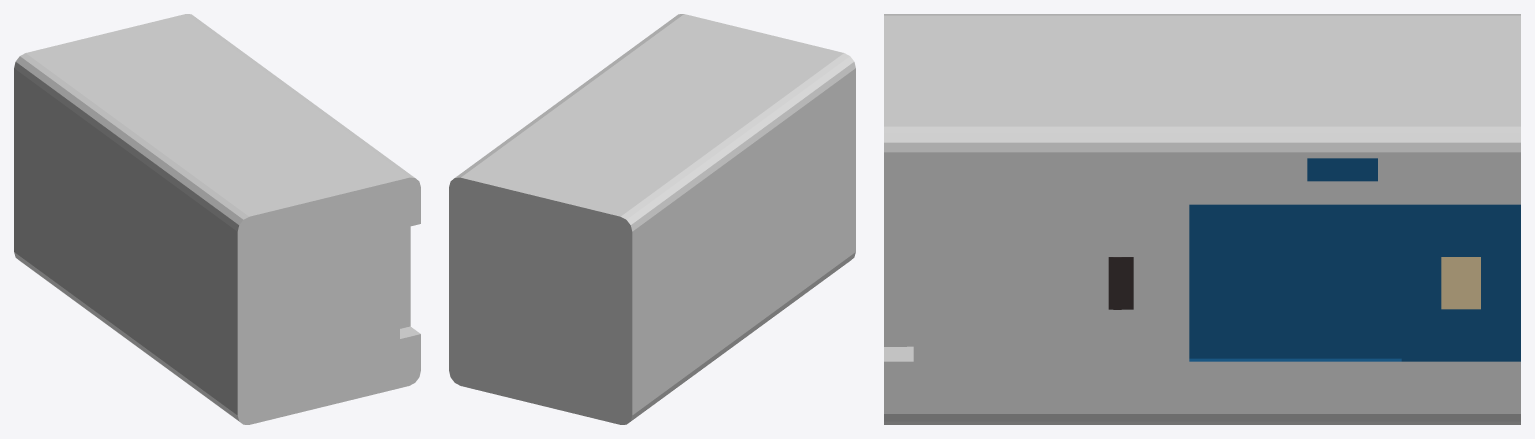
The picture shows the model from 3 angles, left to right: view 1: azimuth 30°, elevation 25°; view 2: azimuth 150°, elevation 25°; view 3: azimuth 270°, elevation 25°; orthographic projection. The views are drawn at different scales.
Parts seen in each view (by area): view 1: Cube; view 2: Cube; view 3: Cube.
Boxes of the visible parts, x1,y1,x2,y2 form: Cube: (14,14,420,424); Cube: (449,14,855,424); Cube: (884,14,1520,424).
Size of the model in its own units: 76.04 by 82.2 by 160.
